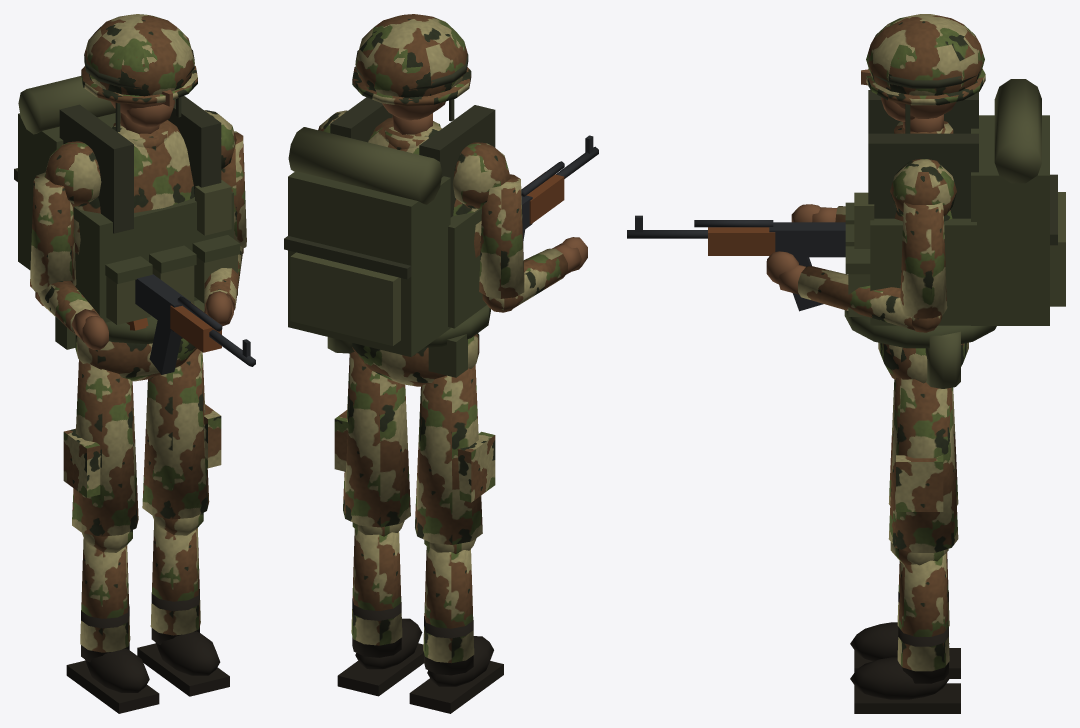
File: soldier_army.glb
The picture shows the model from 3 angles, left to right: view 1: azimuth 30°, elevation 25°; view 2: azimuth 150°, elevation 25°; view 3: azimuth 270°, elevation 25°; orthographic projection.
Visible parts, largest first — view 1: Torso, LegR, LegL, Head, ArmR, Rifle, Pelvis, ArmL; view 2: Torso, LegR, LegL, Head, ArmR, Pelvis, Rifle; view 3: Torso, LegL, Head, ArmL, Rifle, Pelvis, LegR, ArmR.
Boxes of the visible parts, x1,y1,x2,y2 form: Torso: (14,76,240,324); LegR: (63,360,159,713); LegL: (137,348,229,696); Head: (81,14,197,132); ArmR: (30,172,108,350); Rifle: (126,274,255,374); Pelvis: (55,300,204,381); ArmL: (204,131,246,326); Torso: (284,97,510,356); LegR: (409,365,503,713); LegL: (334,352,423,696); Head: (352,14,471,121); ArmR: (479,174,587,312); Pelvis: (327,305,490,386); Rifle: (521,135,598,242); Torso: (845,79,1065,325); LegL: (850,377,960,713); Head: (861,14,985,133); ArmL: (766,202,947,332); Rifle: (627,215,845,311); Pelvis: (844,310,996,388); LegR: (850,379,960,678); ArmR: (791,204,845,222).
Bounding box in the file's own units: 0.6448 × 1.86 × 1.11.
Materials: 10 (2 with a texture image).
